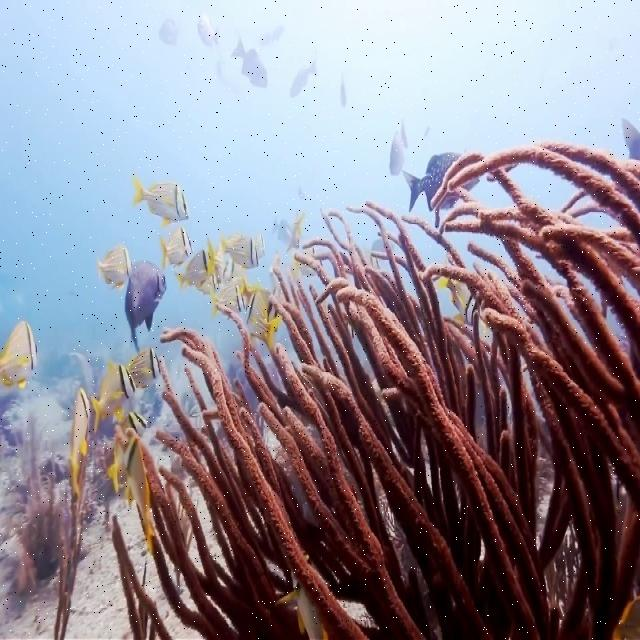aquatic plants: (145, 143, 639, 639)
fish: (116, 430, 153, 555), (125, 263, 166, 347), (91, 365, 135, 435), (132, 176, 186, 227), (0, 323, 38, 389), (70, 388, 91, 497), (206, 237, 259, 274), (97, 244, 132, 290), (128, 349, 160, 387)
